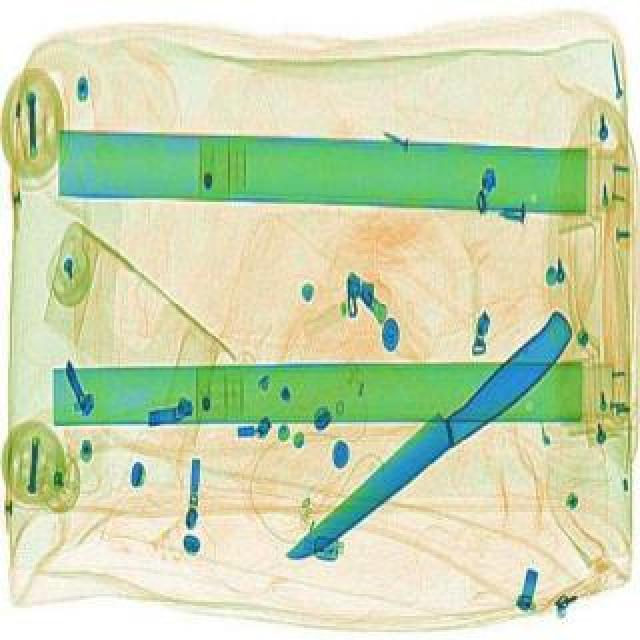knife: (274, 306, 590, 574)
